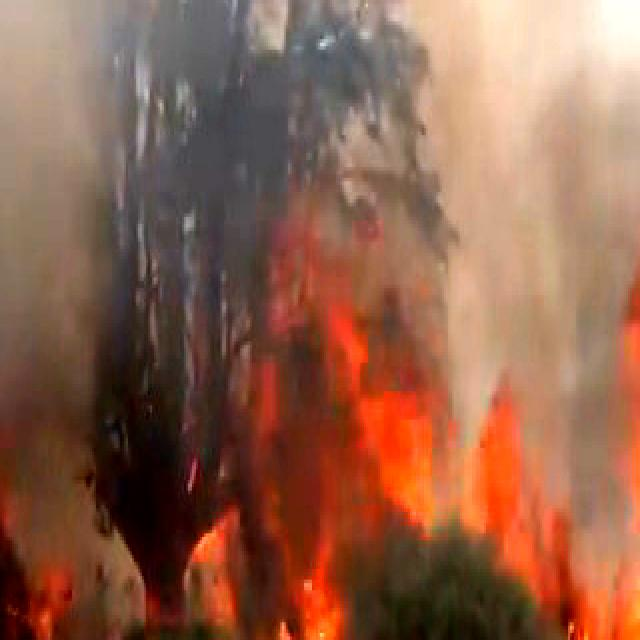fire: (236, 249, 530, 640), (552, 224, 640, 640), (0, 487, 110, 640)
smoke: (464, 0, 640, 217)
